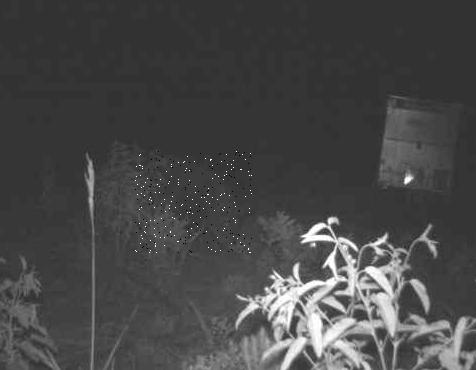Hog: (134, 151, 251, 253)
